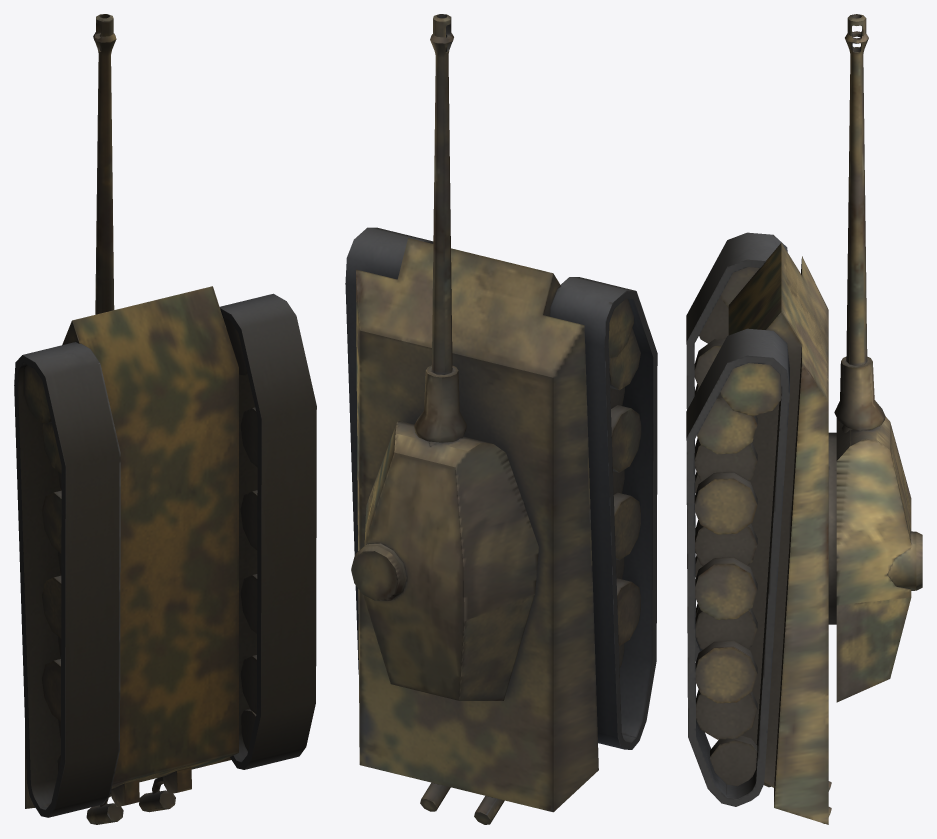
File: TigerII_P.fbx
3 renders of one model, left to right at view 1: azimuth 30°, elevation 25°; view 2: azimuth 150°, elevation 25°; view 3: azimuth 270°, elevation 25°, orthographic. The views are drawn at different scales.
Visible parts, largest first — view 1: TigerII_P Body, TigerII_P Turret; view 2: TigerII_P Body, TigerII_P Turret; view 3: TigerII_P Body, TigerII_P Turret.
Boxes of the visible parts, x1=… form: TigerII_P Body: x1=14, y1=286, x2=316, y2=824; TigerII_P Turret: x1=93, y1=14, x2=116, y2=314; TigerII_P Body: x1=345, y1=227, x2=657, y2=824; TigerII_P Turret: x1=351, y1=14, x2=538, y2=700; TigerII_P Body: x1=686, y1=232, x2=831, y2=824; TigerII_P Turret: x1=828, y1=14, x2=922, y2=702.
Size of the model in its own units: 142 by 428 by 115.
